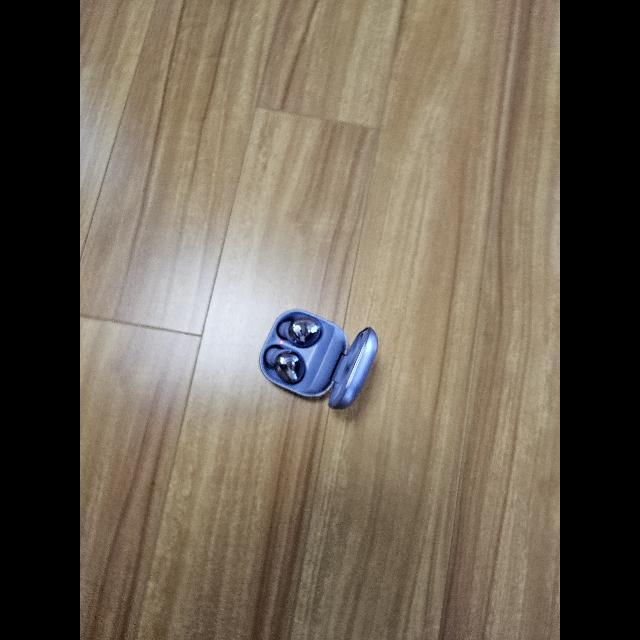buds-pro: (258, 306, 382, 412)
